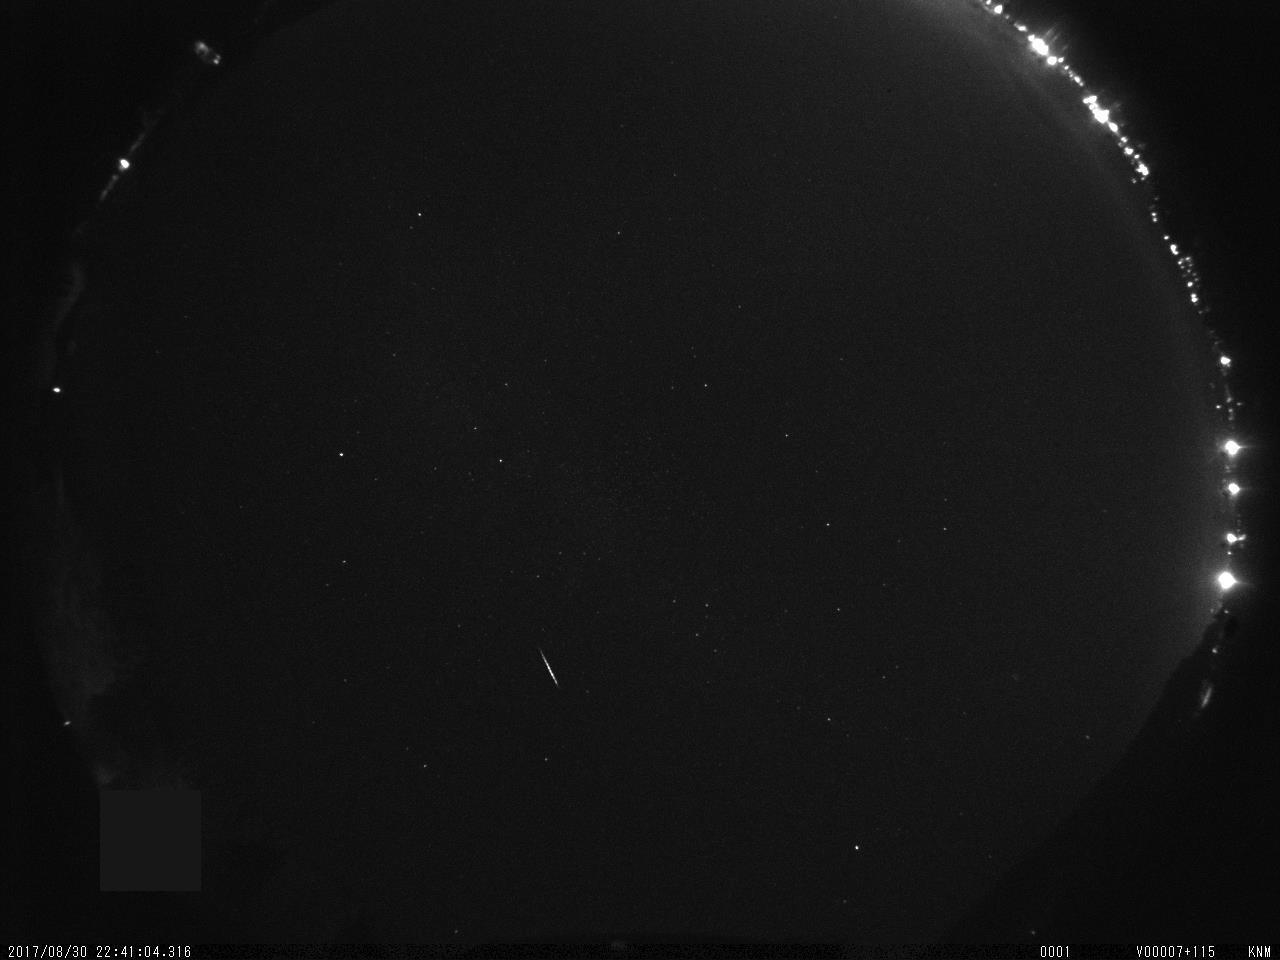Meteor: (537, 644, 561, 686)
